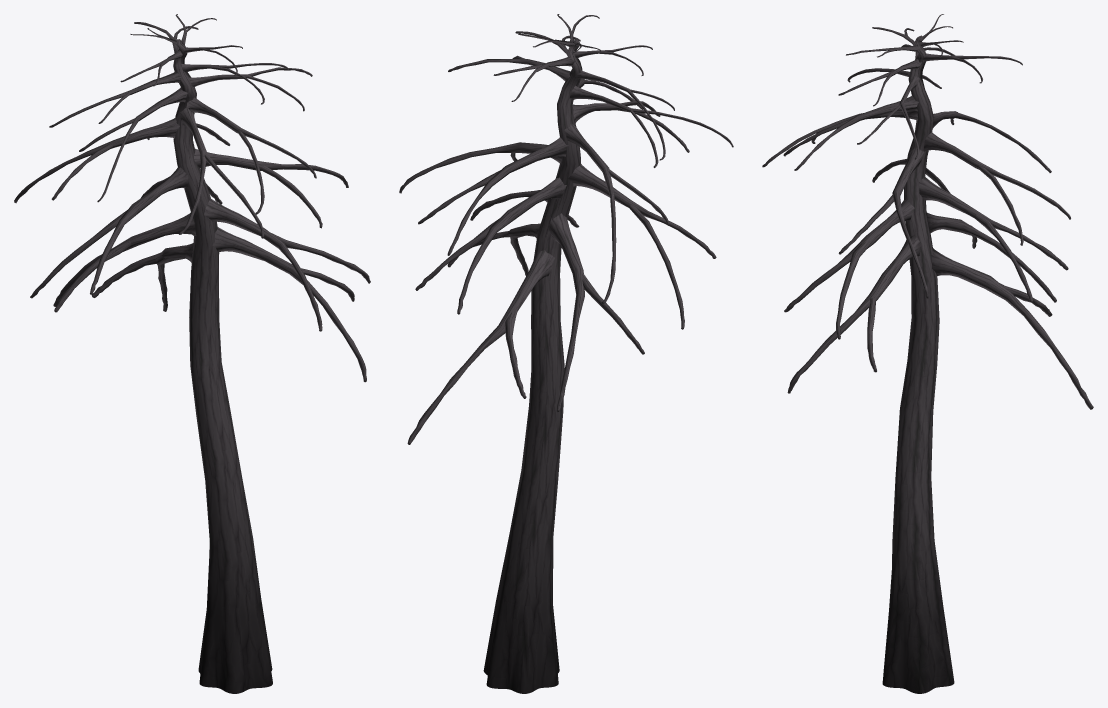
The model's file is DeadTree_3.gltf.
The picture shows the model from 3 angles, left to right: view 1: azimuth 30°, elevation 25°; view 2: azimuth 150°, elevation 25°; view 3: azimuth 270°, elevation 25°; orthographic projection. The views are drawn at different scales.
Parts seen in each view (by area): view 1: DeadTree_3; view 2: DeadTree_3; view 3: DeadTree_3.
Part boxes in pixels (left/top/right/bottom): DeadTree_3: left=14, top=14, right=370, bottom=693; DeadTree_3: left=399, top=14, right=733, bottom=693; DeadTree_3: left=762, top=14, right=1093, bottom=693.
Bounding box in the file's own units: 6.39 × 13.28 × 6.43.
Materials: 1 (1 with a texture image).
